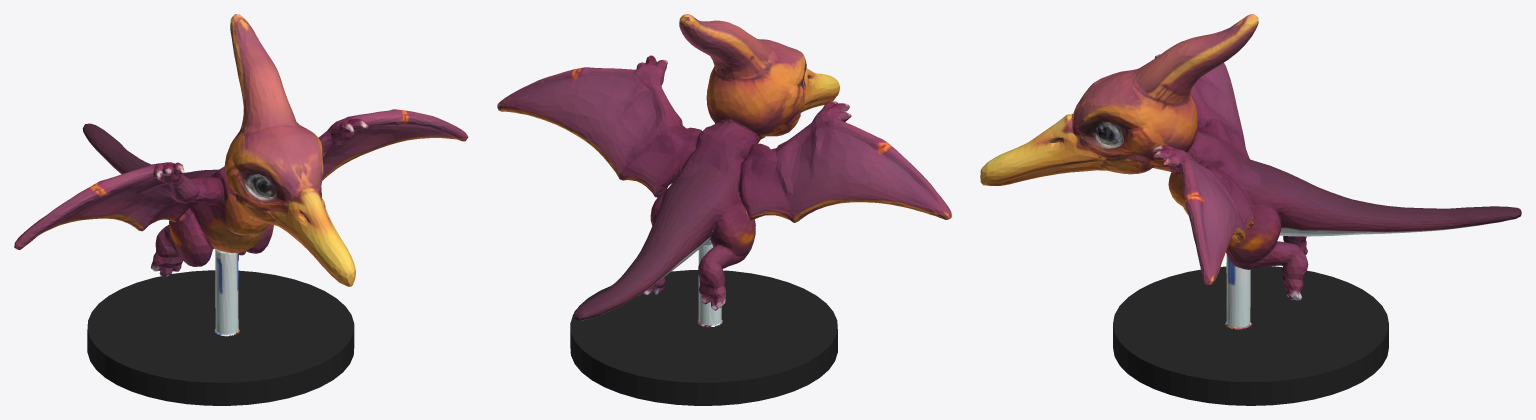
The model's file is ser-terrawing.glb.
3 views of the same model, side by side, from view 1: azimuth 30°, elevation 25°; view 2: azimuth 150°, elevation 25°; view 3: azimuth 270°, elevation 25° (orthographic). The views are drawn at different scales.
Visible parts, largest first — view 1: figure, base; view 2: figure, base; view 3: figure, base.
Boxes of the visible parts, x1,y1,x2,y2 form: figure: (14,14,468,336); base: (87,270,354,405); figure: (497,14,951,327); base: (570,270,837,405); figure: (980,14,1521,329); base: (1113,266,1388,405).
Bounding box in the file's own units: 2.46 × 1.72 × 2.47.
Materials: 2 (1 with a texture image).
